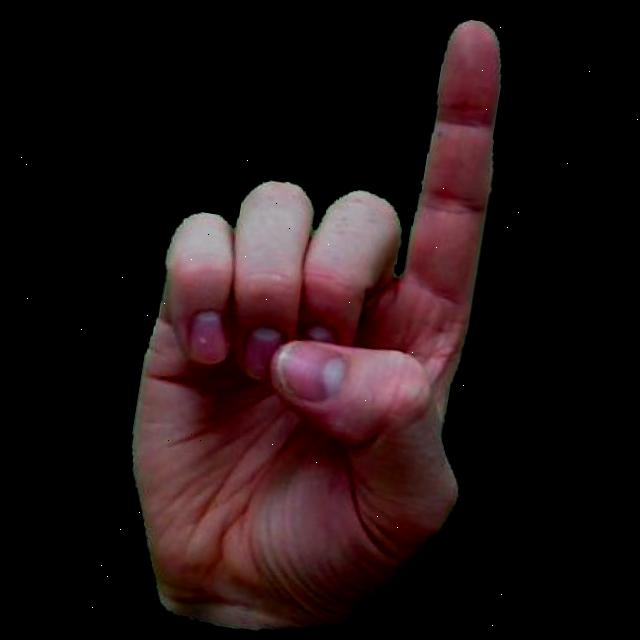d: (78, 0, 533, 640)
